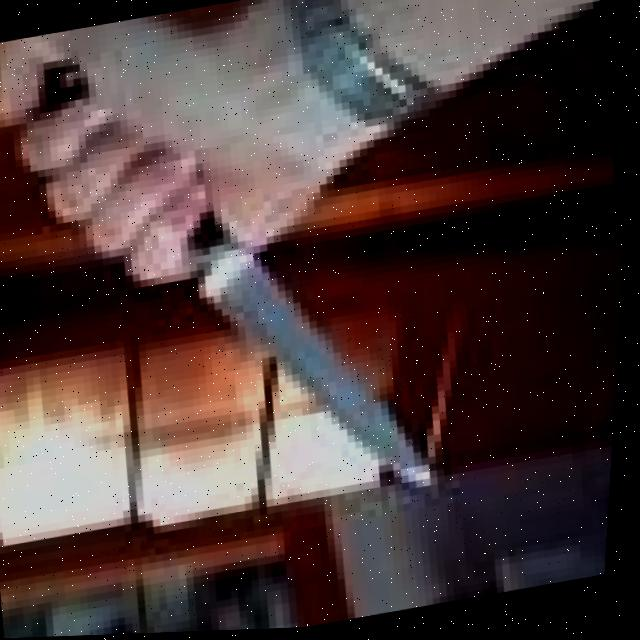knife: (174, 174, 457, 528)
